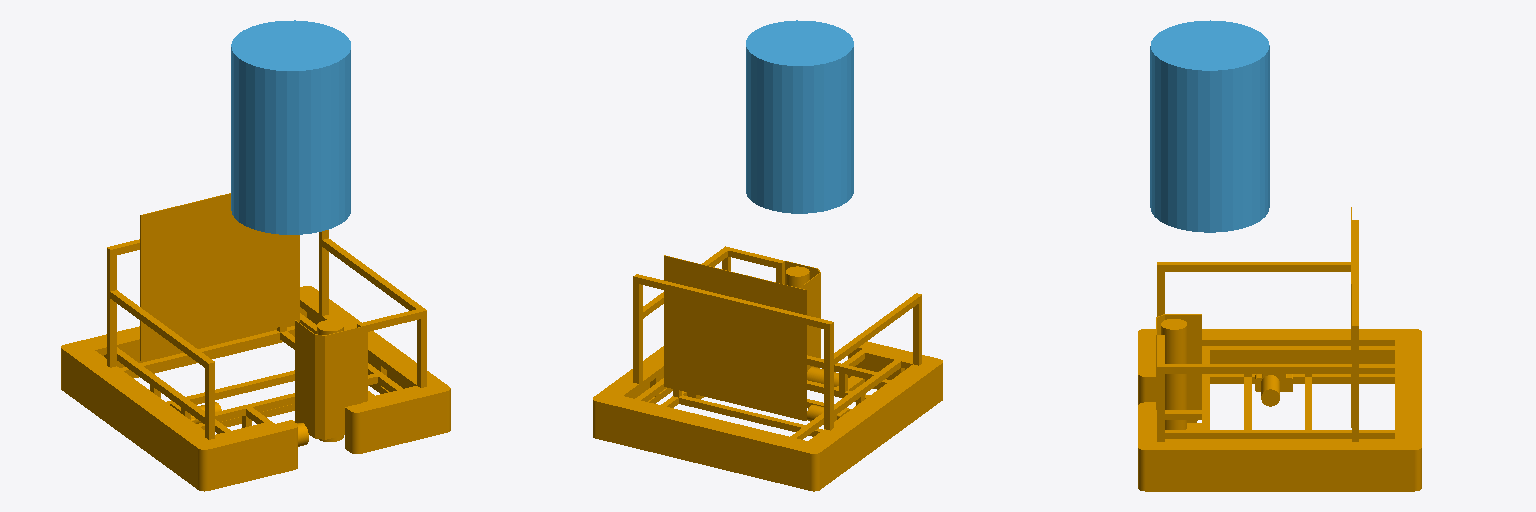
URDF robot description (hungryToaster):
<robot name="hungryToaster">
  <link name="base_link">
    <visual>
      <origin rpy="0 0 0" xyz="0.0 0 0.0"/>
      <geometry>
        <mesh filename="package://hungry_toaster_description/meshes/hungry_toaster_meters.stl"/>
      </geometry>
    </visual>
  </link>

  <joint name="base_link_to_laser" type="fixed">
    <parent link="base_link"/>
    <child link="Laser"/>
    <origin xyz="0 0 1.0"/>
  </joint>

  <link name="Laser">
    <visual>
      <origin rpy="0 0 0" xyz="0 0 0"/>
      <geometry>
        <cylinder length="0.6" radius="0.2"/>
      </geometry>
    </visual>
  </link>
</robot>

--- Facts derived from the render (not from the file) ---
Views: 3 orthographic renders of the robot side by side, from view 1: azimuth 30°, elevation 25°; view 2: azimuth 150°, elevation 25°; view 3: azimuth 270°, elevation 25°.
Model hungryToaster with 2 links and 1 joints (1 fixed), rooted at base_link, posed all joints at 0.
Links seen in each view (by area): view 1: base_link, Laser; view 2: base_link, Laser; view 3: base_link, Laser.
Boxes of the visible links, x1,y1,x2,y2 form: base_link: [61, 193, 450, 491]; Laser: [231, 20, 350, 234]; base_link: [593, 246, 942, 491]; Laser: [746, 20, 853, 213]; base_link: [1138, 207, 1421, 491]; Laser: [1150, 20, 1269, 232].
Size in the robot's own frame: 0.9652 by 0.9525 by 1.43 metres.
Meshes: 1 distinct files referenced, 1 mesh visuals loaded (1 binary STL).